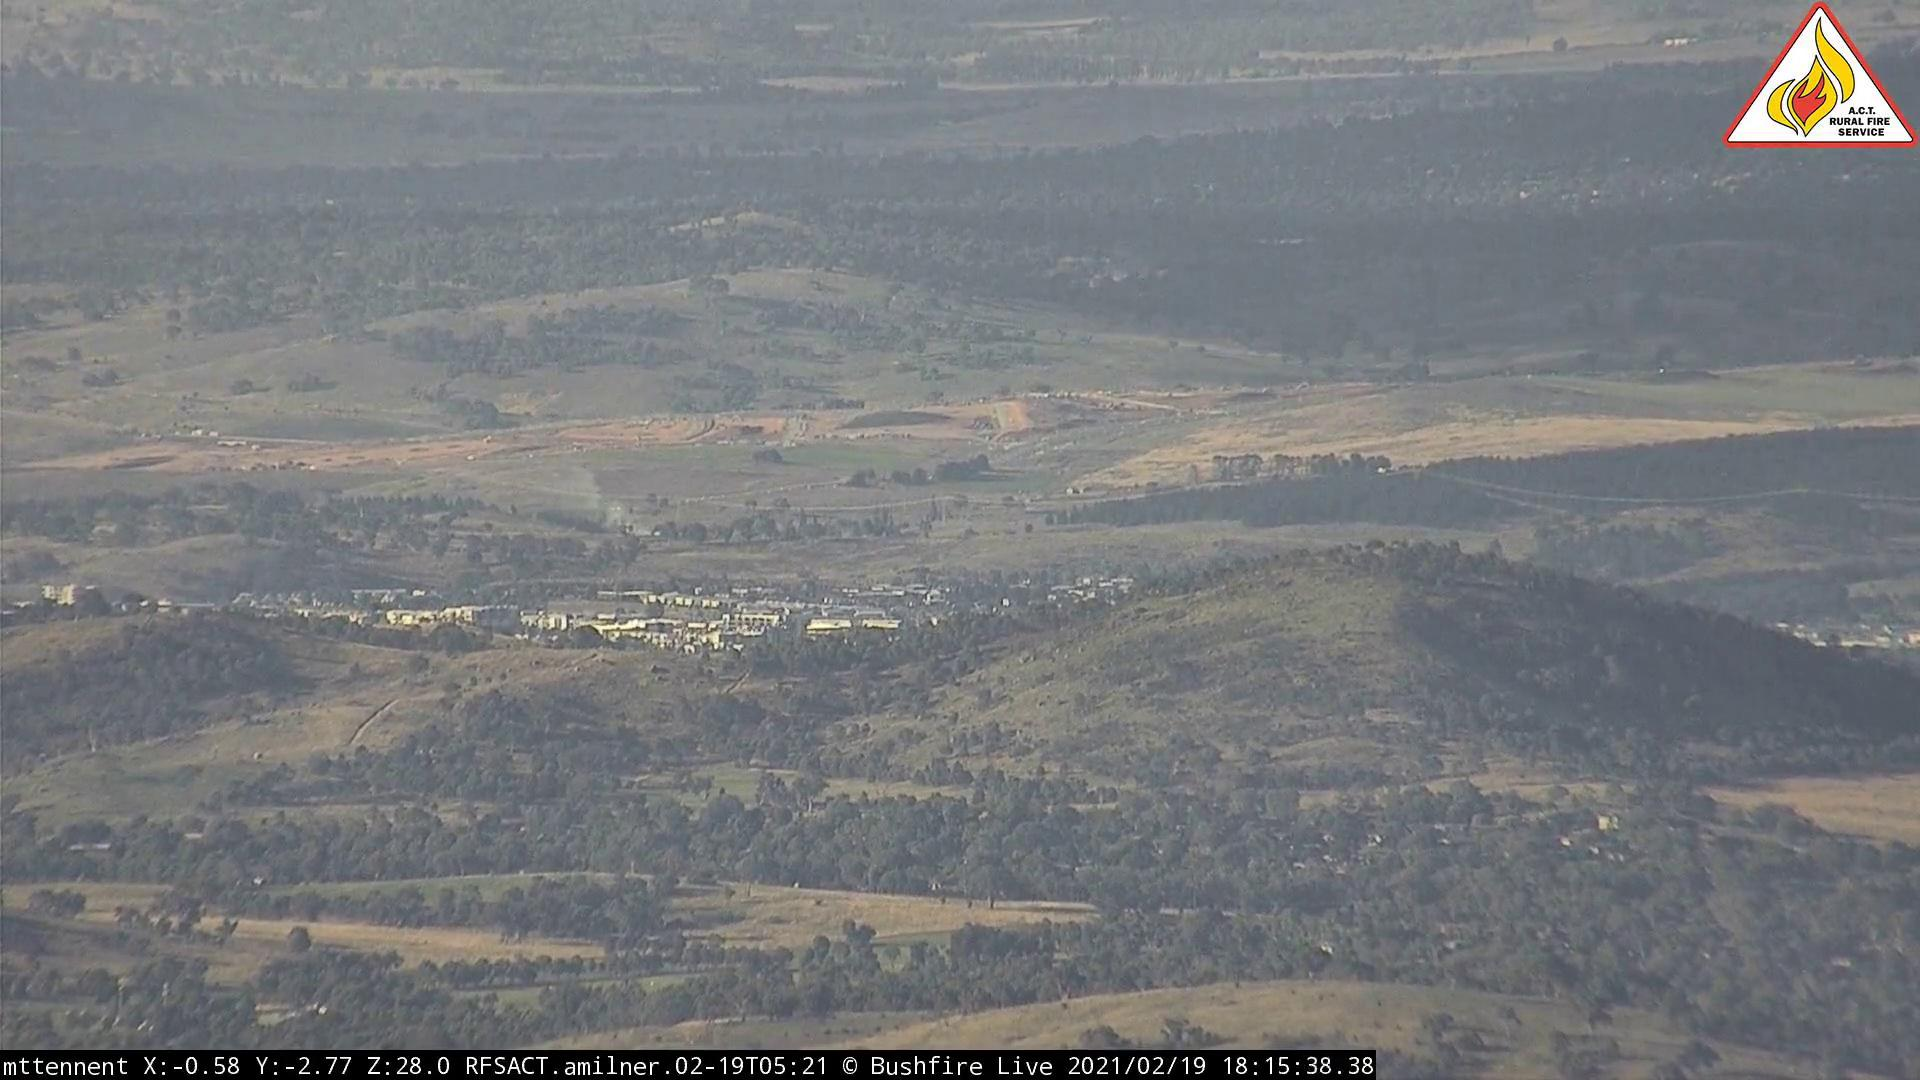Smoke: (578, 506, 658, 550)
